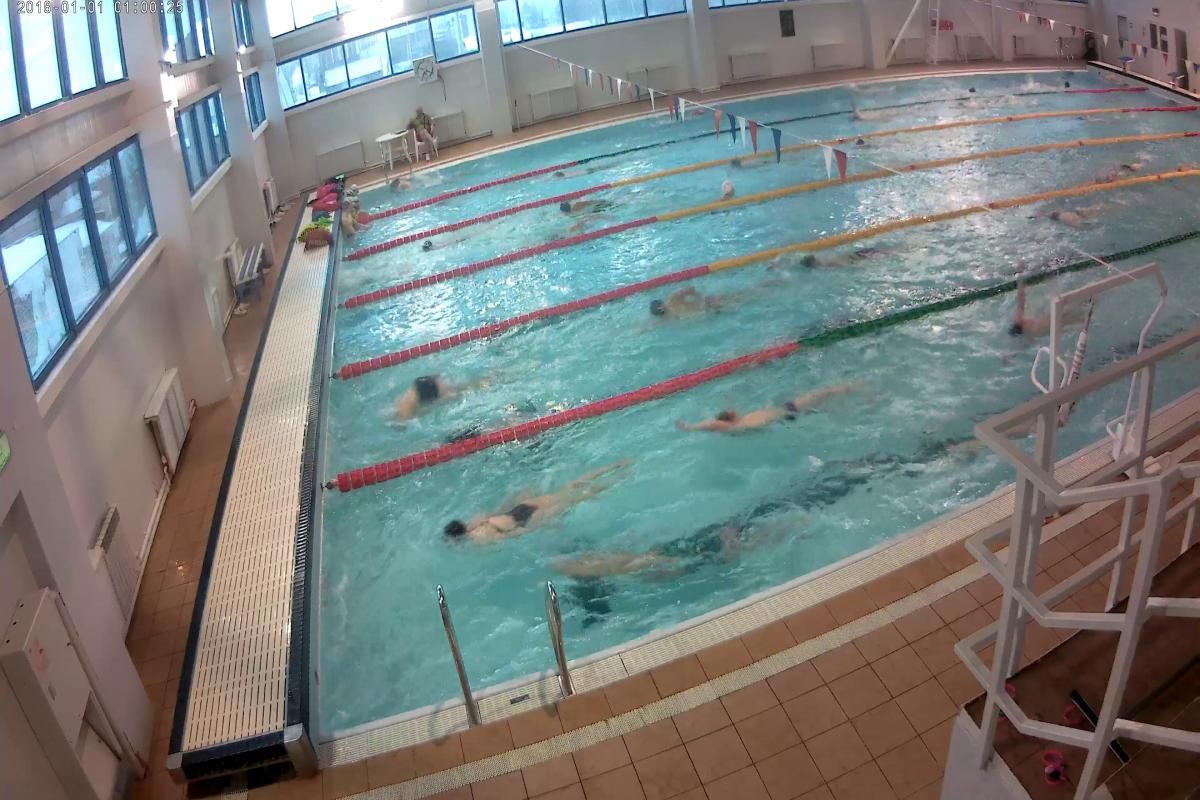swimmer: (437, 459, 628, 553), (676, 373, 870, 442), (622, 511, 796, 559), (382, 366, 482, 429), (636, 285, 739, 332), (1000, 296, 1060, 338), (796, 249, 895, 273), (1041, 201, 1110, 227), (554, 195, 614, 219)
